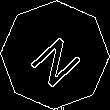N_NE: (23, 23, 87, 87)
